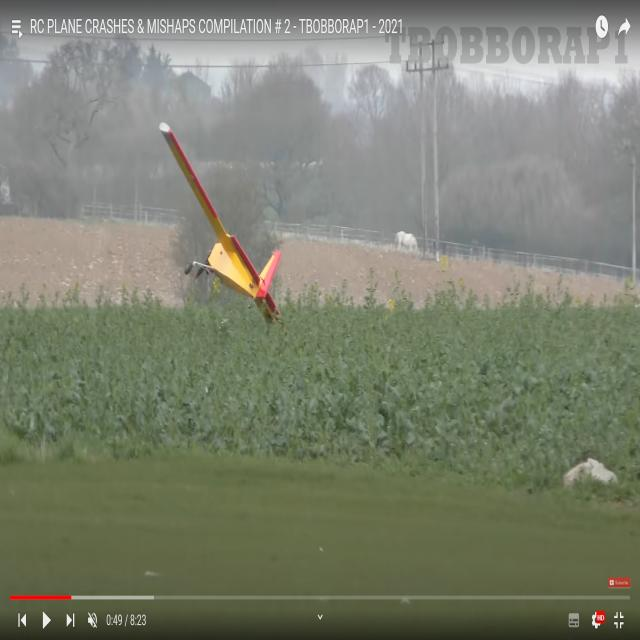iha: (156, 120, 284, 328)
